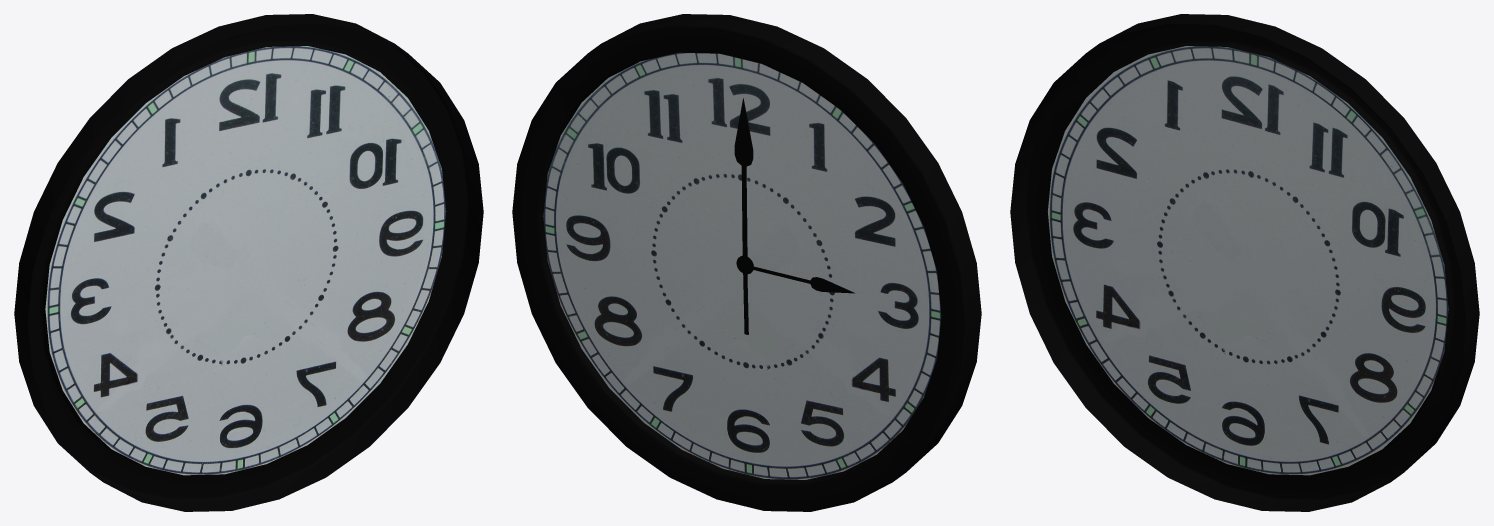
File: Clock.fbx
The picture shows the model from 3 angles, left to right: view 1: azimuth 30°, elevation 25°; view 2: azimuth 150°, elevation 25°; view 3: azimuth 330°, elevation 25°; orthographic projection.
Parts seen in each view (by area): view 1: Clock; view 2: Clock, Large_Hand, Small_Hand; view 3: Clock.
Boxes of the visible parts, left/top/right/bottom form: Clock: left=14, top=14, right=483, bottom=511; Clock: left=512, top=14, right=981, bottom=511; Large_Hand: left=734, top=98, right=753, bottom=334; Small_Hand: left=738, top=259, right=855, bottom=293; Clock: left=1010, top=14, right=1479, bottom=511.
Size of the model in its own units: 47.52 by 47.26 by 2.69.
